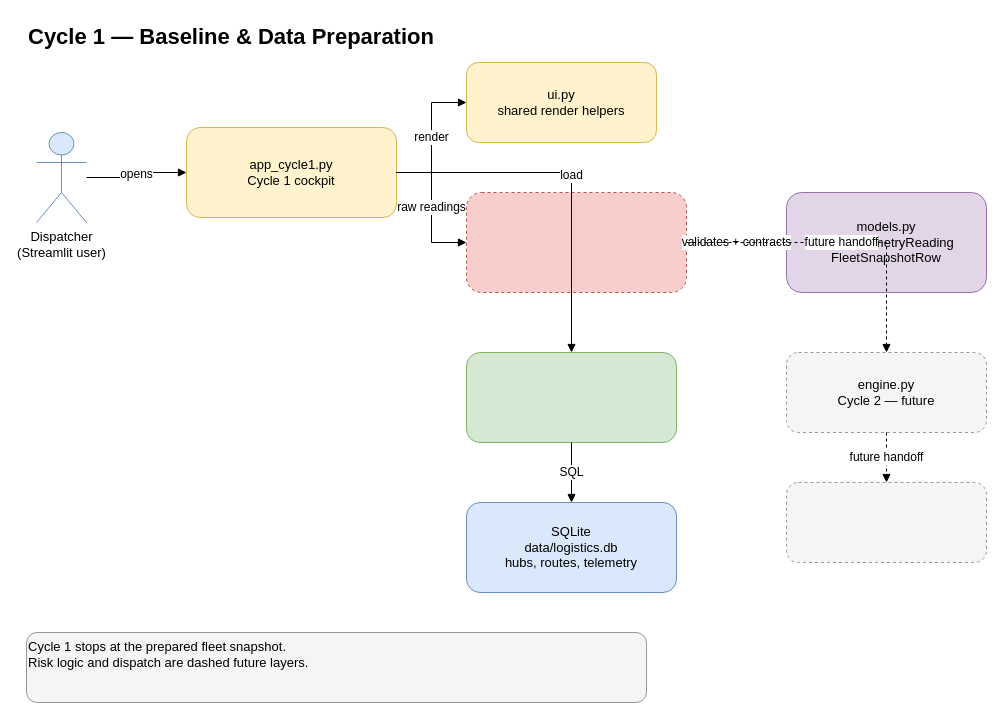
Some shapes in this 1004 by 720 pixel diagram are drawn without their labels. Here are the shapes that lost their labels. From the top down, the box of each, then its label:
(466, 192, 686, 292): prep.py build_fleet_snapshot() CYCLE 1 EXECUTION TARGET
(466, 352, 676, 442): FleetRepository repository.py raw SQLite access
(786, 482, 986, 562): operator.py Cycle 3 — future
